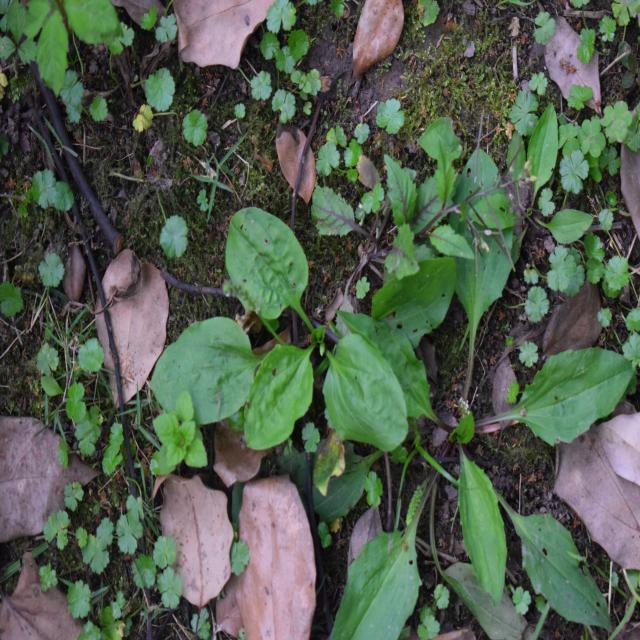plantain: (347, 208, 618, 624), (160, 214, 448, 498)
